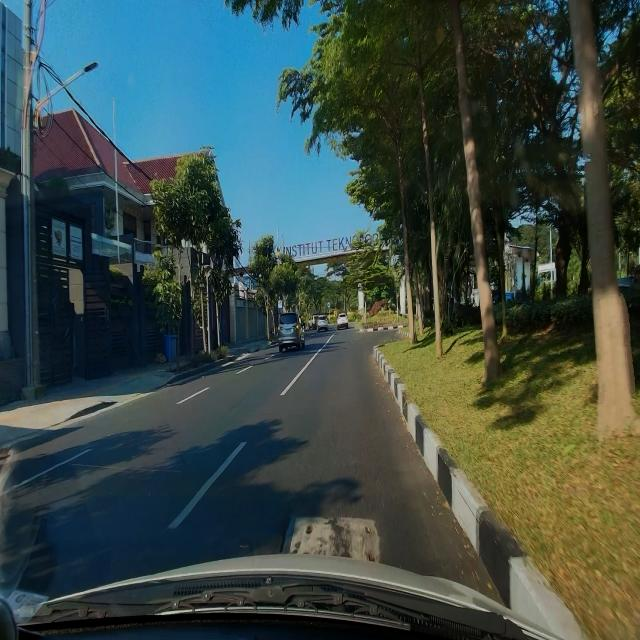car: (277, 311, 307, 352)
